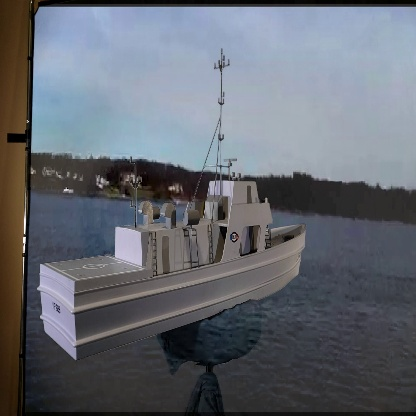YP689: (39, 47, 306, 366)
